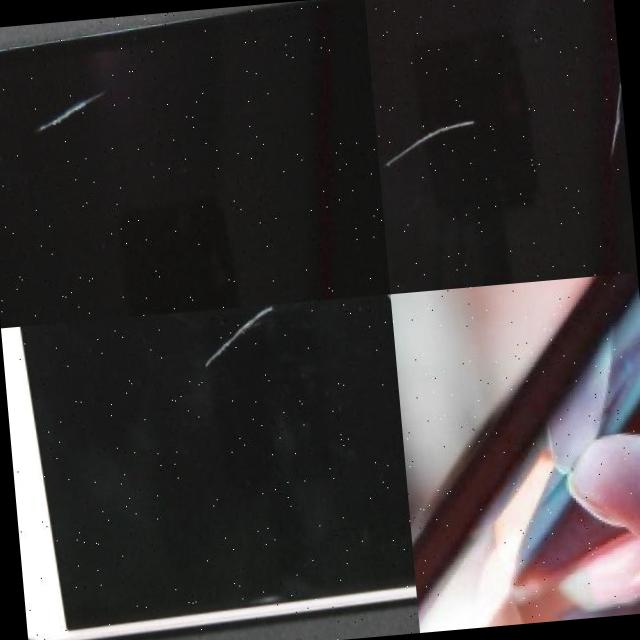scratch: (372, 92, 484, 194), (576, 0, 626, 154), (193, 304, 280, 361), (22, 81, 112, 133), (380, 294, 394, 348)
